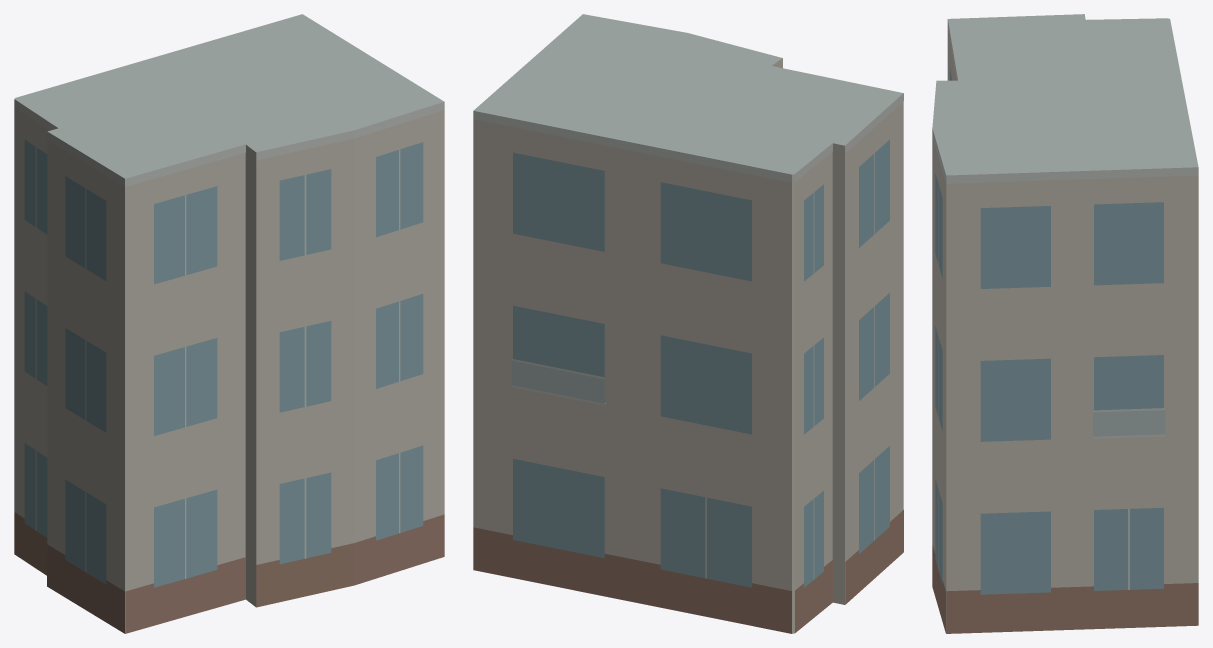
File: survey-upis-32486914.glb
The picture shows the model from 3 angles, left to right: view 1: azimuth 30°, elevation 25°; view 2: azimuth 150°, elevation 25°; view 3: azimuth 270°, elevation 25°; orthographic projection.
Parts seen in each view (by area): view 1: survey-upis-32486914.tmp; view 2: survey-upis-32486914.tmp; view 3: survey-upis-32486914.tmp.
Boxes of the visible parts, left/top/right/bottom form: survey-upis-32486914.tmp: left=14, top=14, right=444, bottom=633; survey-upis-32486914.tmp: left=473, top=14, right=903, bottom=633; survey-upis-32486914.tmp: left=932, top=14, right=1198, bottom=633.
Bounding box in the file's own units: 10.21 × 13.5 × 7.12.
